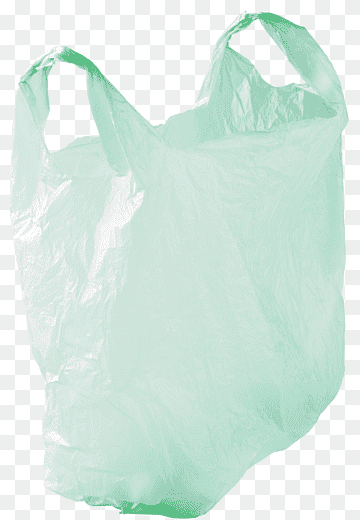plastic_bag: (8, 9, 360, 520)
